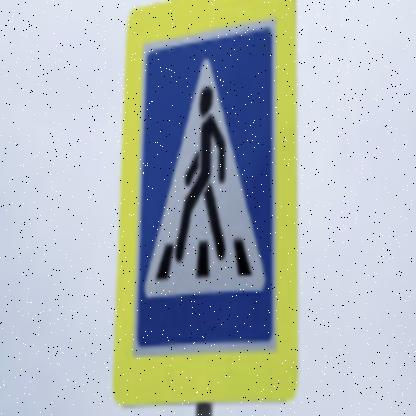Pedestrian Crossing: (144, 44, 269, 319)
